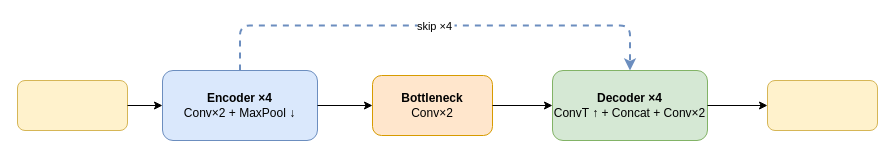
Some shapes in this 895 by 158 pixel diagram are drawn without their labels. The centre of each missing label's shape, as x and y in pixels:
"Image" goes at point (72, 105).
"Mask" goes at point (822, 105).
